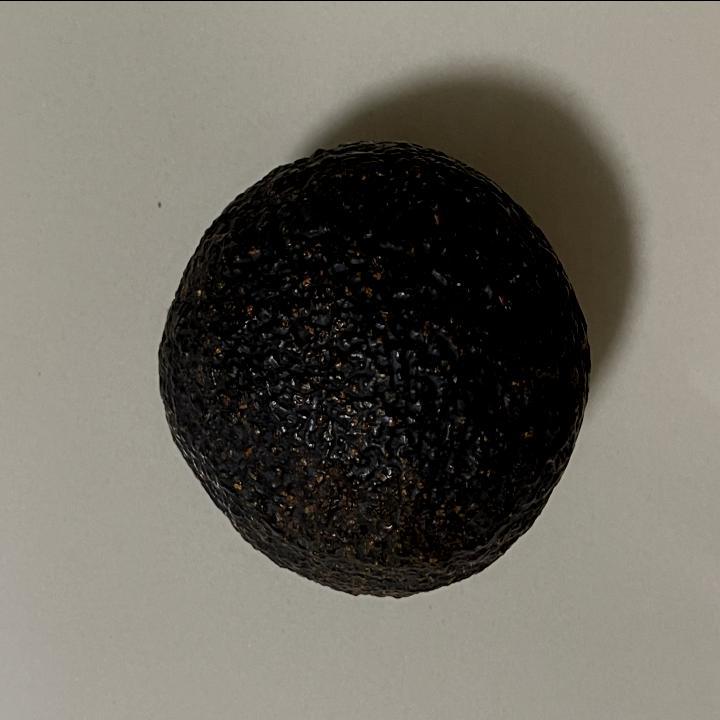Level2: (150, 128, 596, 606)
